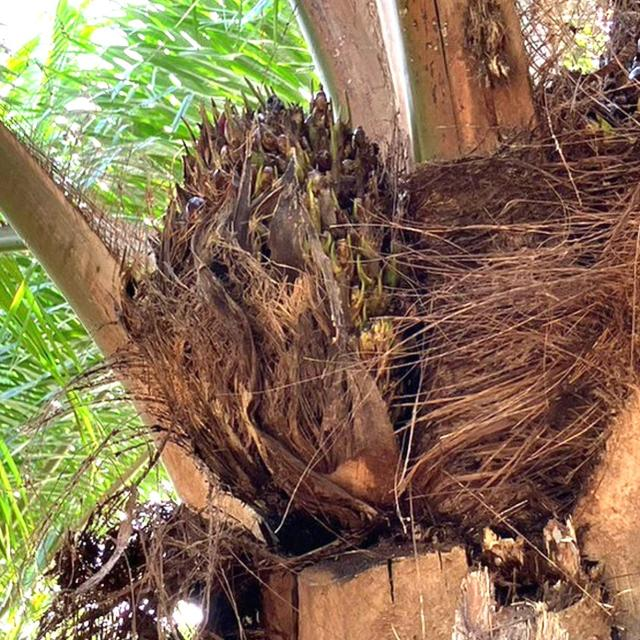unripe: (112, 64, 456, 533)
